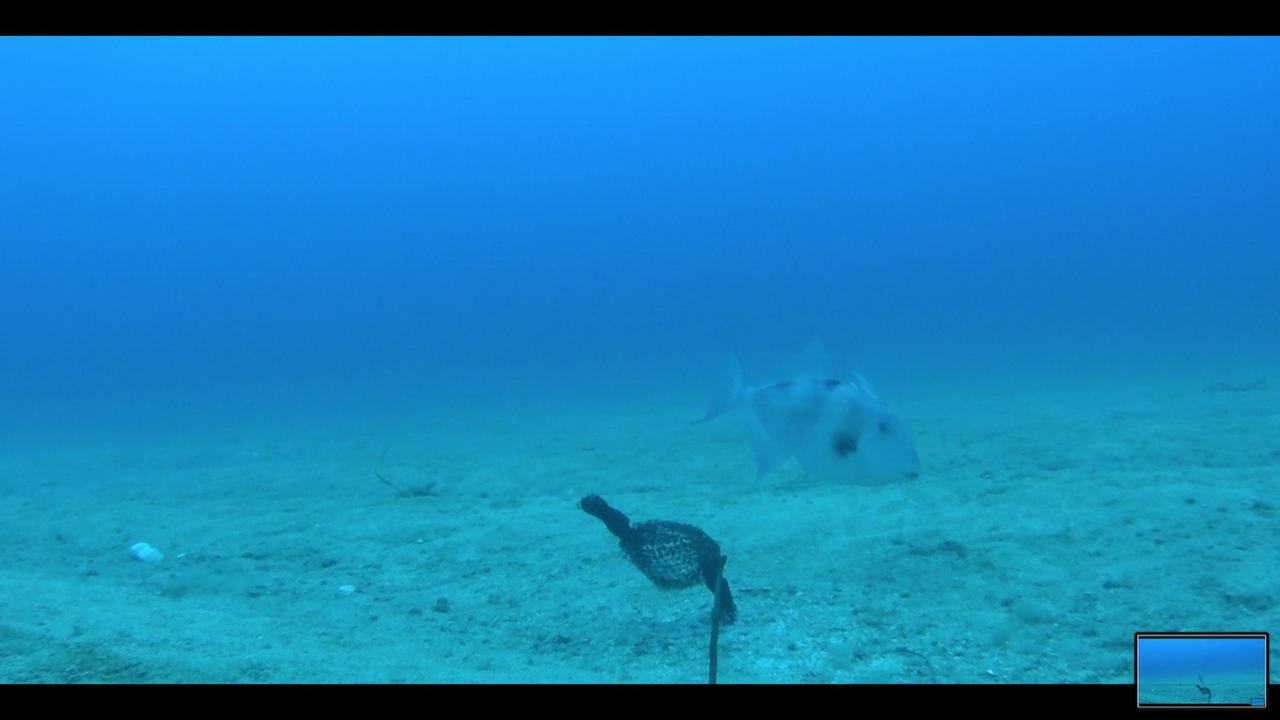balistes: (683, 337, 933, 490)
